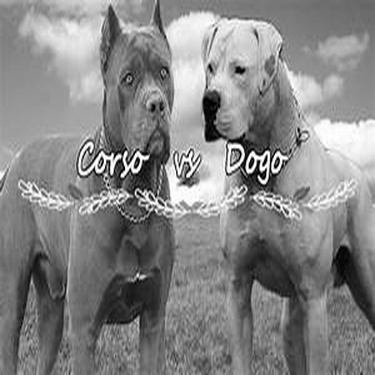dog: (2, 1, 201, 371), (176, 2, 373, 372)
